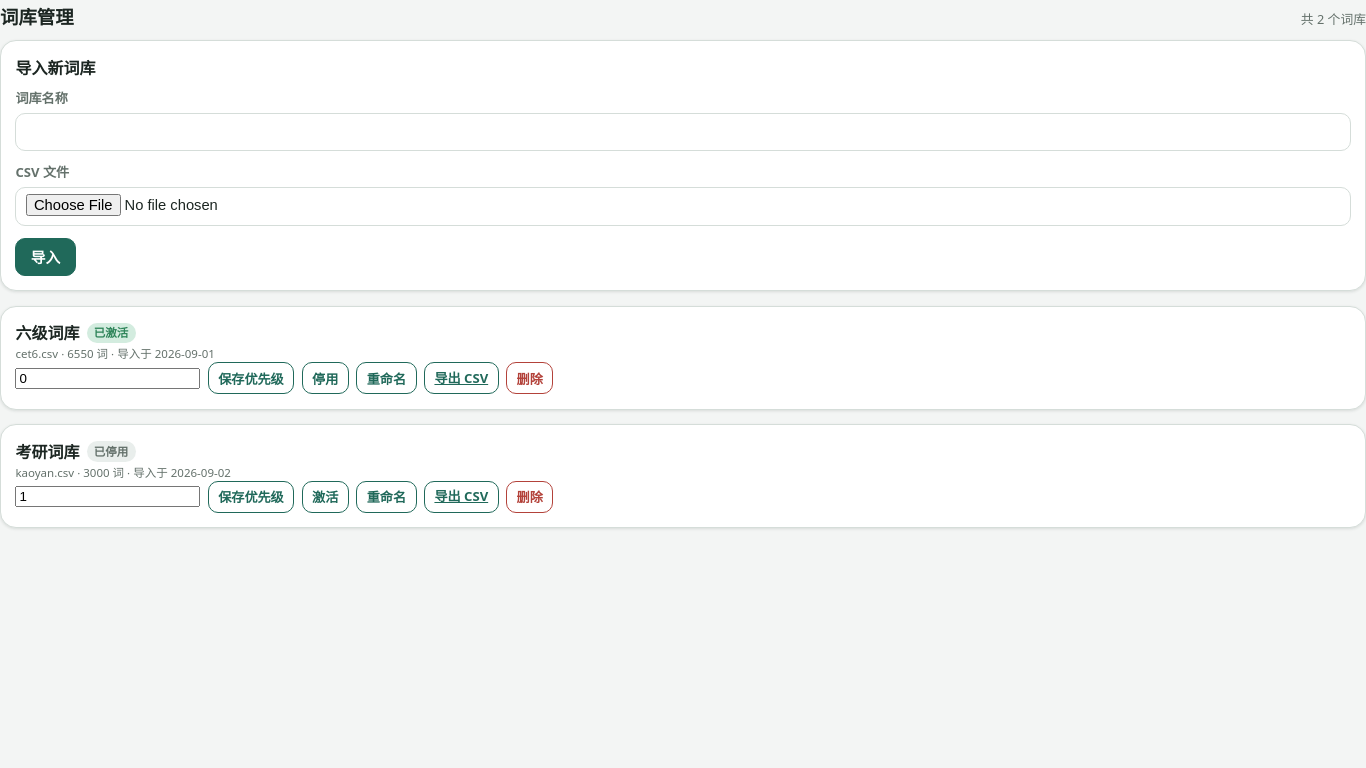
词库管理页 › 删除确认名称不匹配时服务端错误透出
Click the 1st button "删除" at (530, 378), box [506, 362, 553, 394]
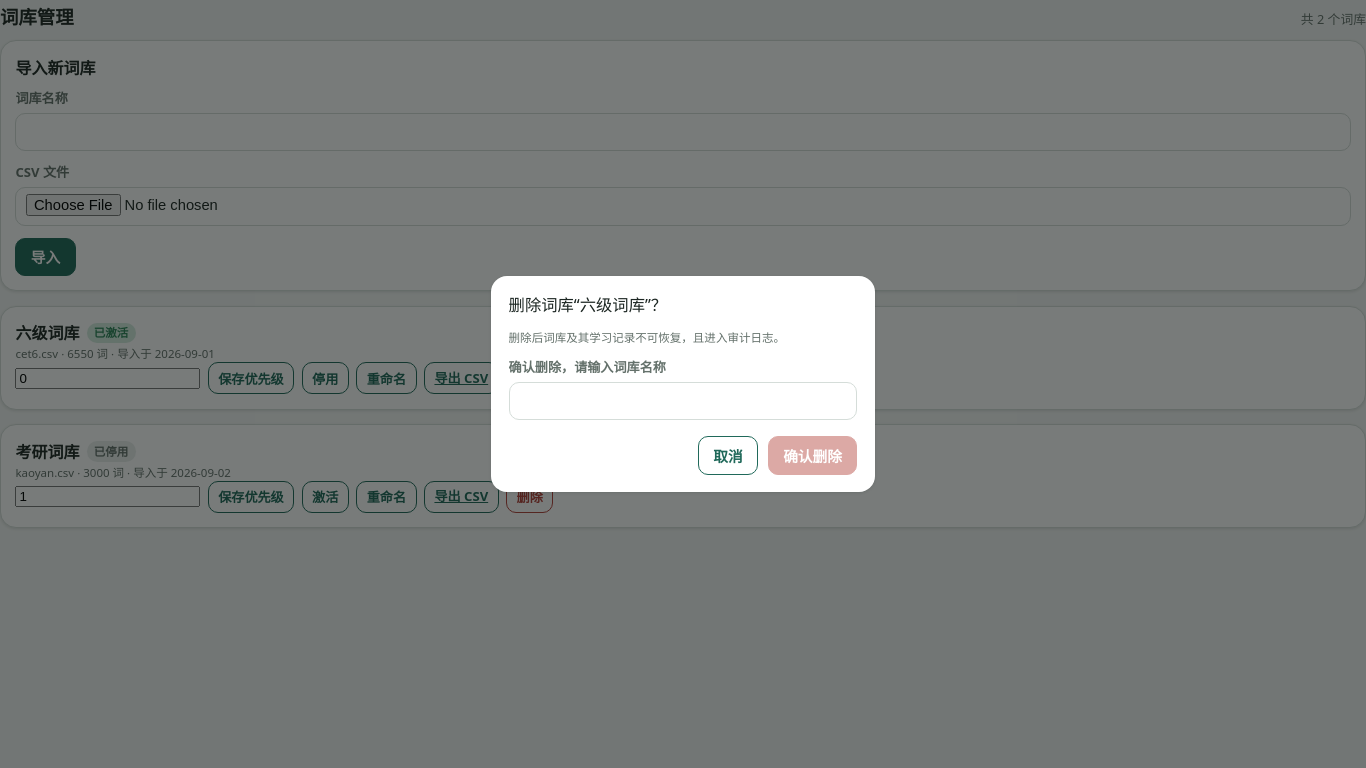
Type "六级词库" into the field labelled "确认删除，请输入词库名称" at (683, 401), box [509, 382, 857, 420]
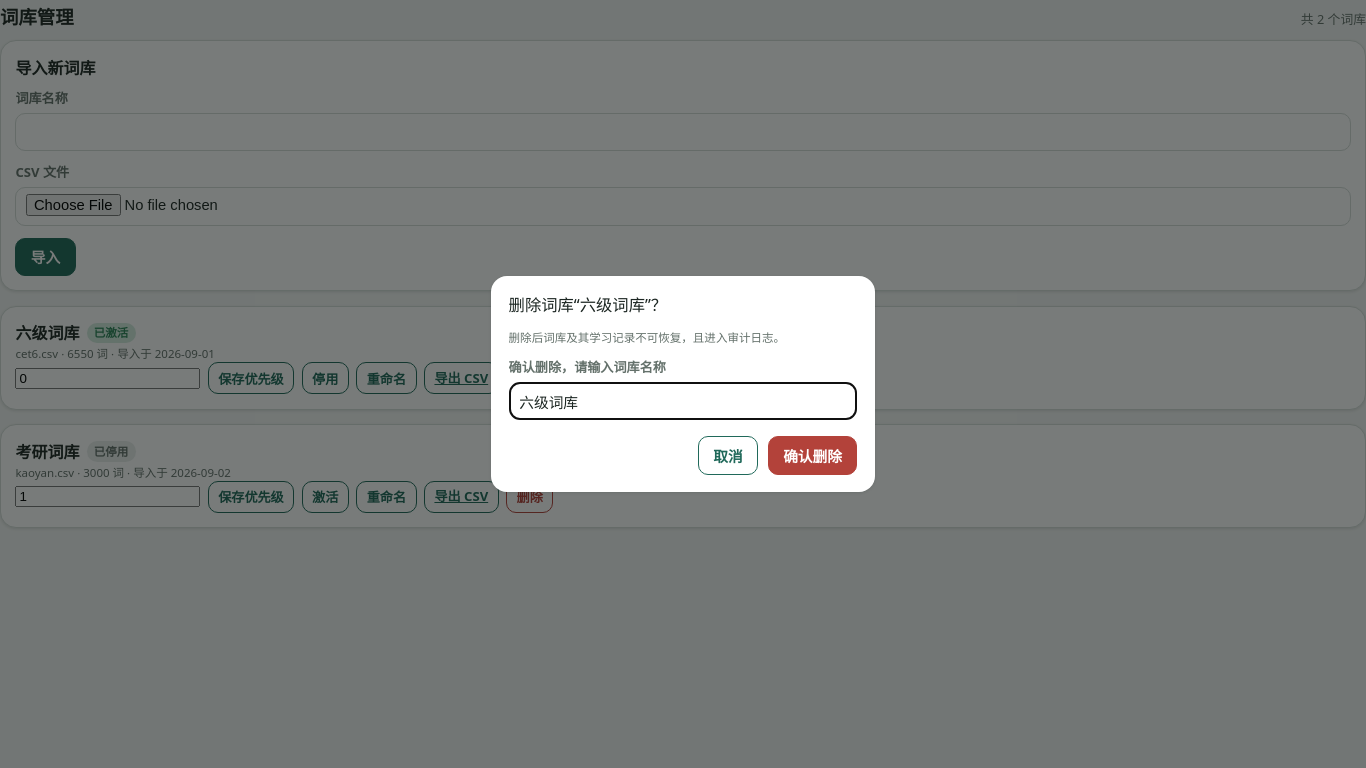
Click the button "确认删除" at (813, 455), box [768, 436, 857, 475]
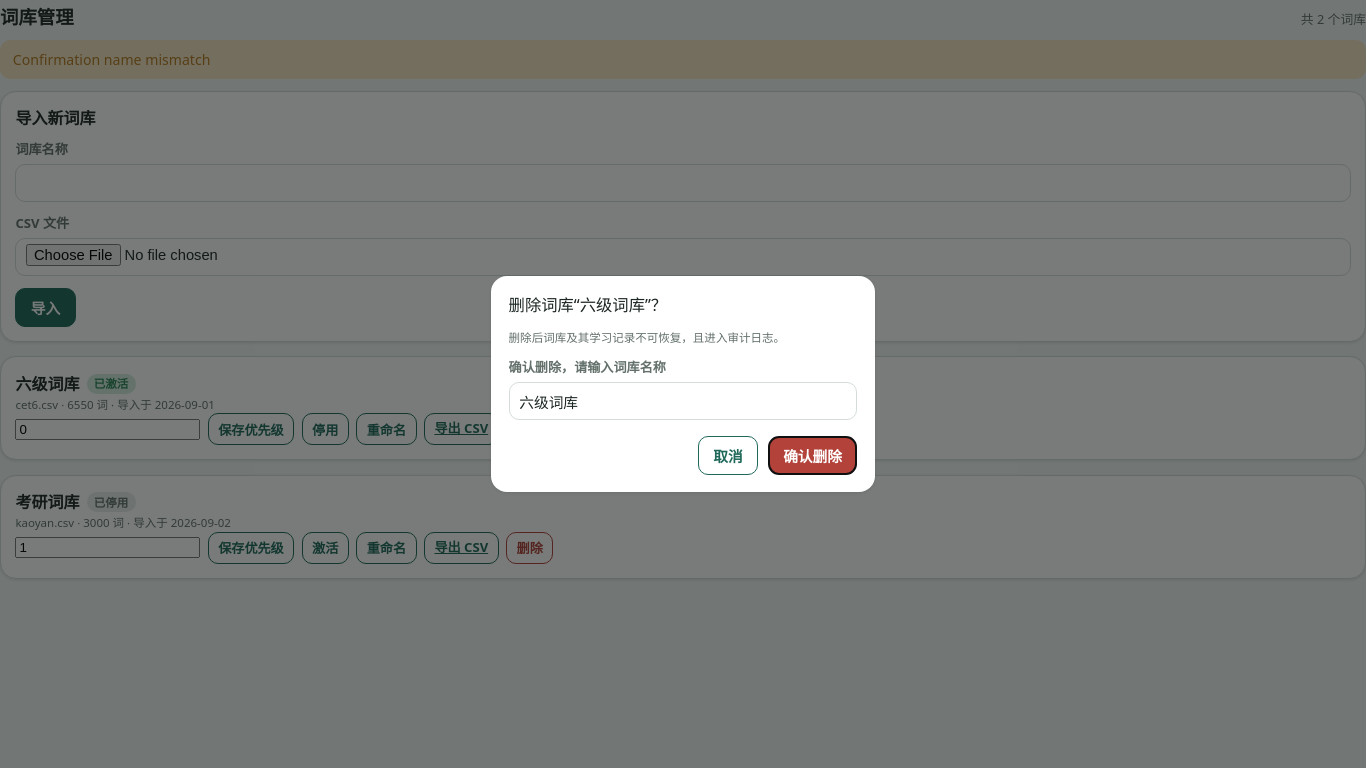
Result: the text "Confirmation name mismatch" is shown at [0, 40, 1365, 79]
